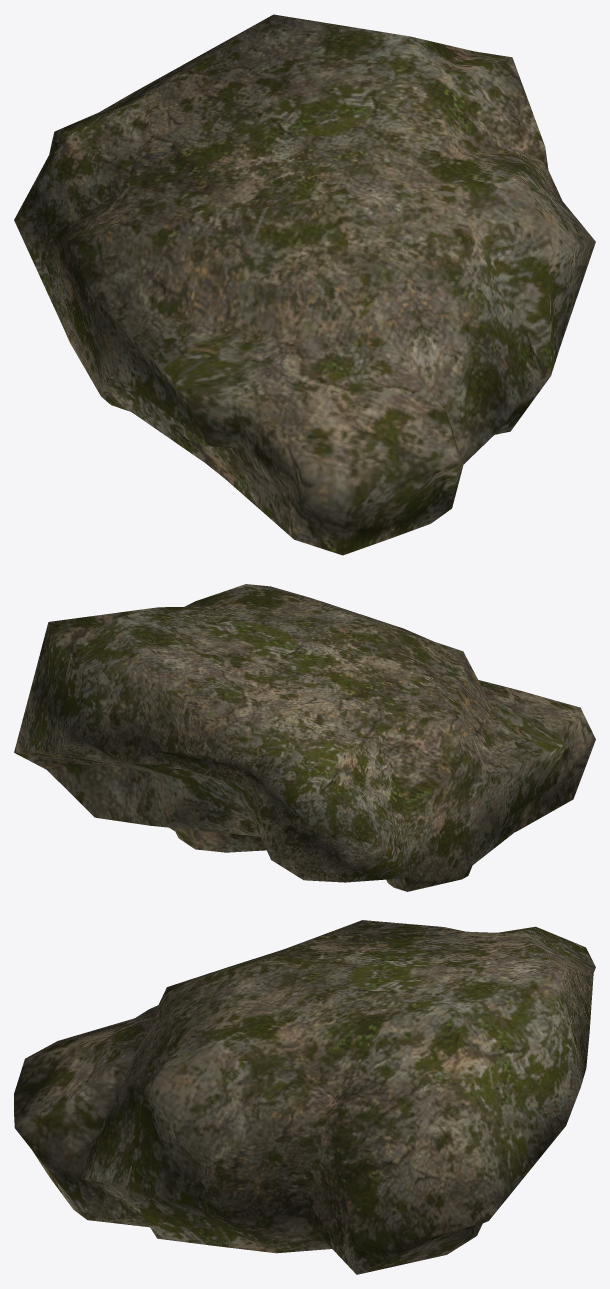
The model's file is Rock.fbx.
3 renders of one model, top to bottom at view 1: azimuth 30°, elevation 25°; view 2: azimuth 150°, elevation 25°; view 3: azimuth 270°, elevation 25°, orthographic. The views are drawn at different scales.
Visible parts, largest first — view 1: gar_b0_m0017 Part 0.0; view 2: gar_b0_m0017 Part 0.0; view 3: gar_b0_m0017 Part 0.0.
Boxes of the visible parts, left/top/right/bottom form: gar_b0_m0017 Part 0.0: left=14, top=14, right=595, bottom=555; gar_b0_m0017 Part 0.0: left=14, top=584, right=595, bottom=891; gar_b0_m0017 Part 0.0: left=14, top=920, right=595, bottom=1274.
Bounding box in the file's own units: 198 × 115 × 212.
1 material, 1 textured.
